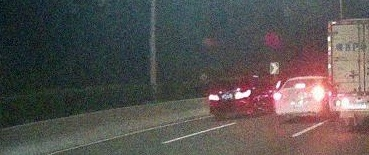L_light: (208, 94, 220, 101), (273, 93, 283, 100)
R_light: (235, 91, 250, 100), (311, 90, 325, 99)
T_light: (295, 83, 306, 88), (227, 80, 238, 82)
night-no: (208, 78, 255, 119)
night-right: (272, 75, 326, 120)
